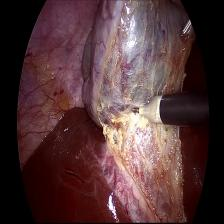Hook: (128, 94, 164, 131)
